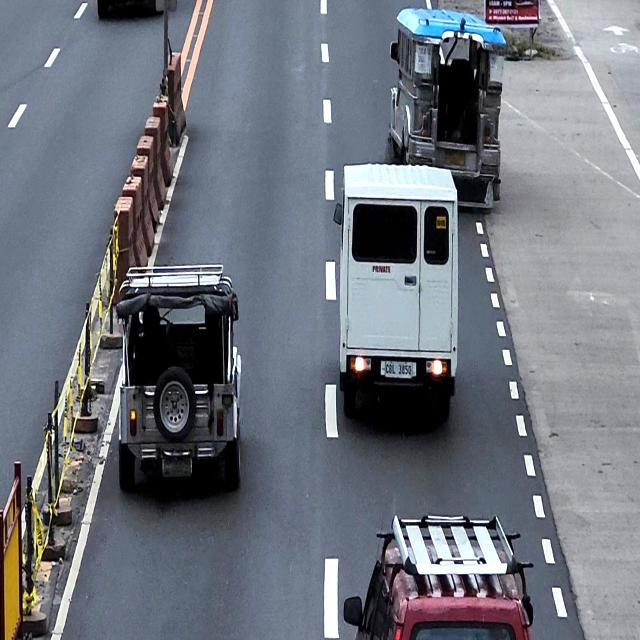Car: (332, 160, 458, 427), (116, 266, 243, 496), (343, 511, 535, 640)
Jeep: (388, 4, 506, 219)
License-Plate: (162, 456, 192, 478), (382, 361, 414, 381)
